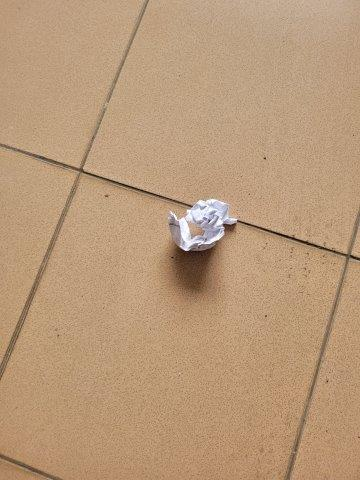kertas: (166, 197, 238, 257)
